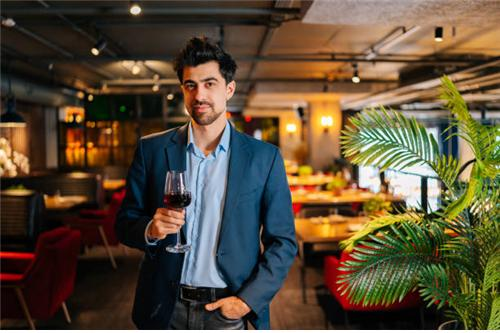alcohol: (160, 169, 195, 255)
